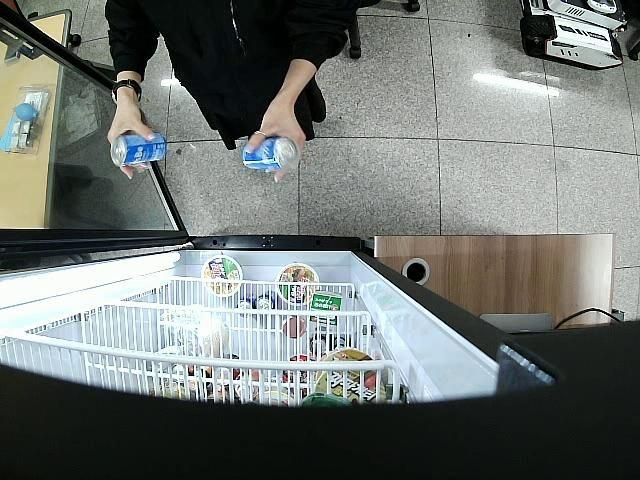15_letsbe: (242, 136, 300, 172), (111, 132, 164, 166)
